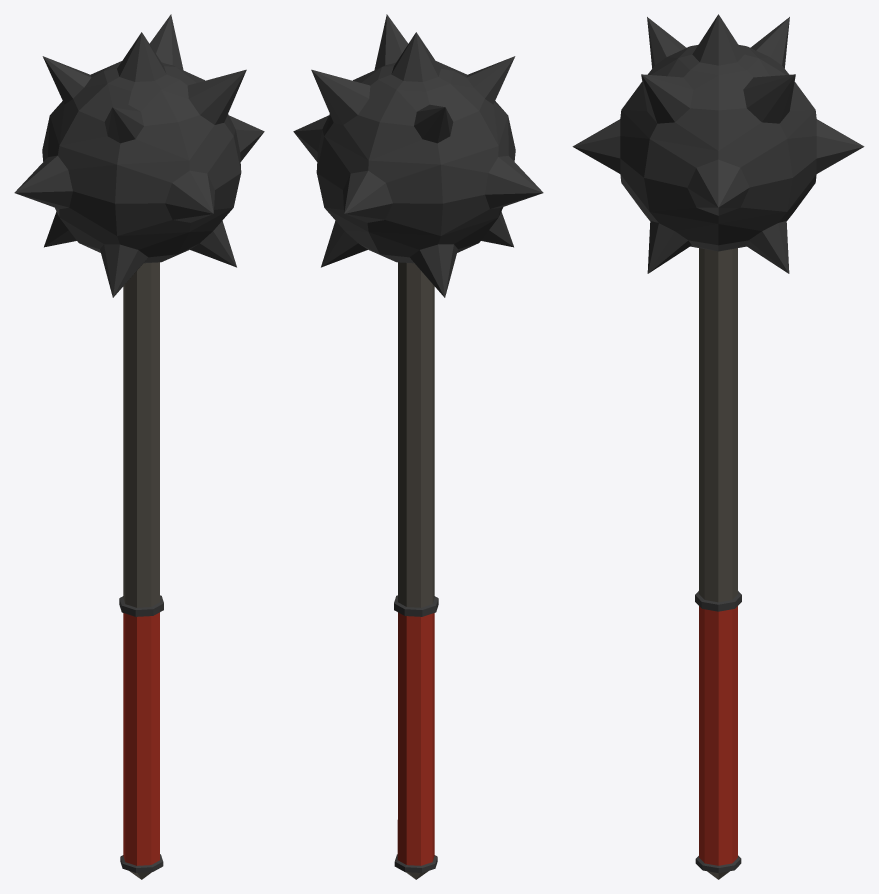
The model's file is Morningstar.fbx.
3 views of the same model, side by side, from view 1: azimuth 30°, elevation 25°; view 2: azimuth 150°, elevation 25°; view 3: azimuth 270°, elevation 25° (orthographic). The views are drawn at different scales.
Visible parts, largest first — view 1: Morningstar; view 2: Morningstar; view 3: Morningstar.
Part boxes in pixels (bbox=[...]): Morningstar: bbox=[14, 14, 264, 879]; Morningstar: bbox=[293, 14, 543, 879]; Morningstar: bbox=[572, 14, 864, 879].
Size of the model in its own units: 2.81 by 9.08 by 2.78.
